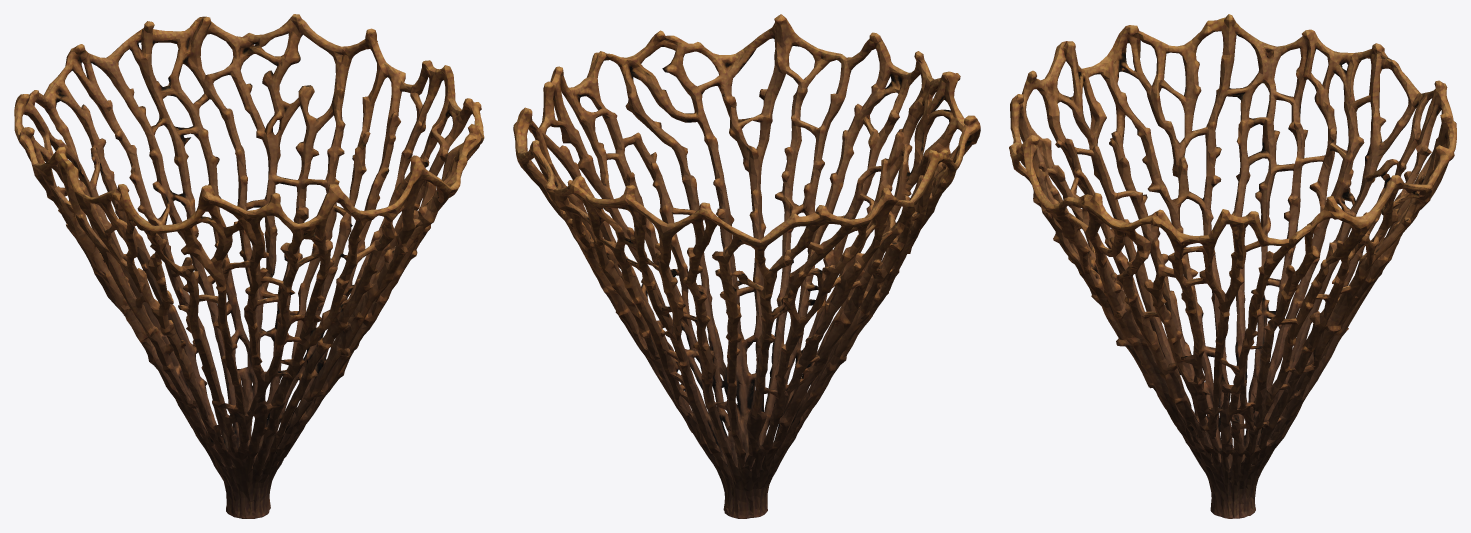
3 renders of one model, left to right at view 1: azimuth 30°, elevation 25°; view 2: azimuth 150°, elevation 25°; view 3: azimuth 270°, elevation 25°, orthographic.
Visible parts, largest first — view 1: world; view 2: world; view 3: world.
Boxes of the visible parts, x1,y1,x2,y2 form: world: (14,14,484,518); world: (513,14,980,518); world: (1009,14,1456,518).
Size of the model in its own units: 0.0998 by 0.1 by 0.0995.
1 material, 1 textured.
